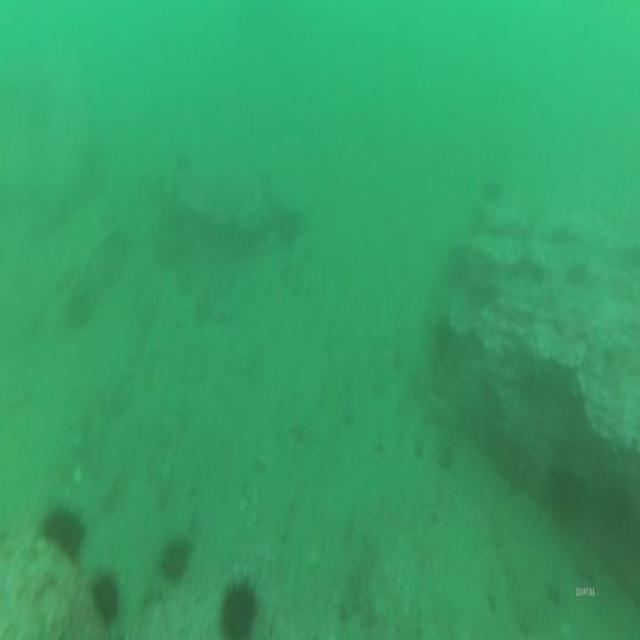echinus: (37, 496, 91, 569), (216, 570, 260, 640), (542, 458, 584, 526), (89, 564, 123, 629), (157, 531, 194, 585), (63, 283, 97, 333), (442, 240, 473, 283), (272, 204, 300, 250), (479, 174, 505, 210)
holothurian: (495, 524, 559, 640)
